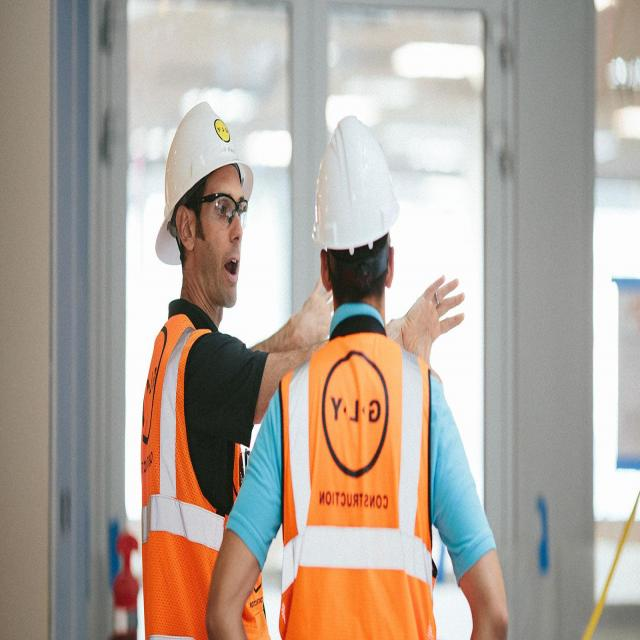Reflective-Jacket: (266, 324, 444, 638), (136, 297, 250, 639)
Safety-Helmet: (150, 80, 262, 262), (310, 106, 402, 260)
